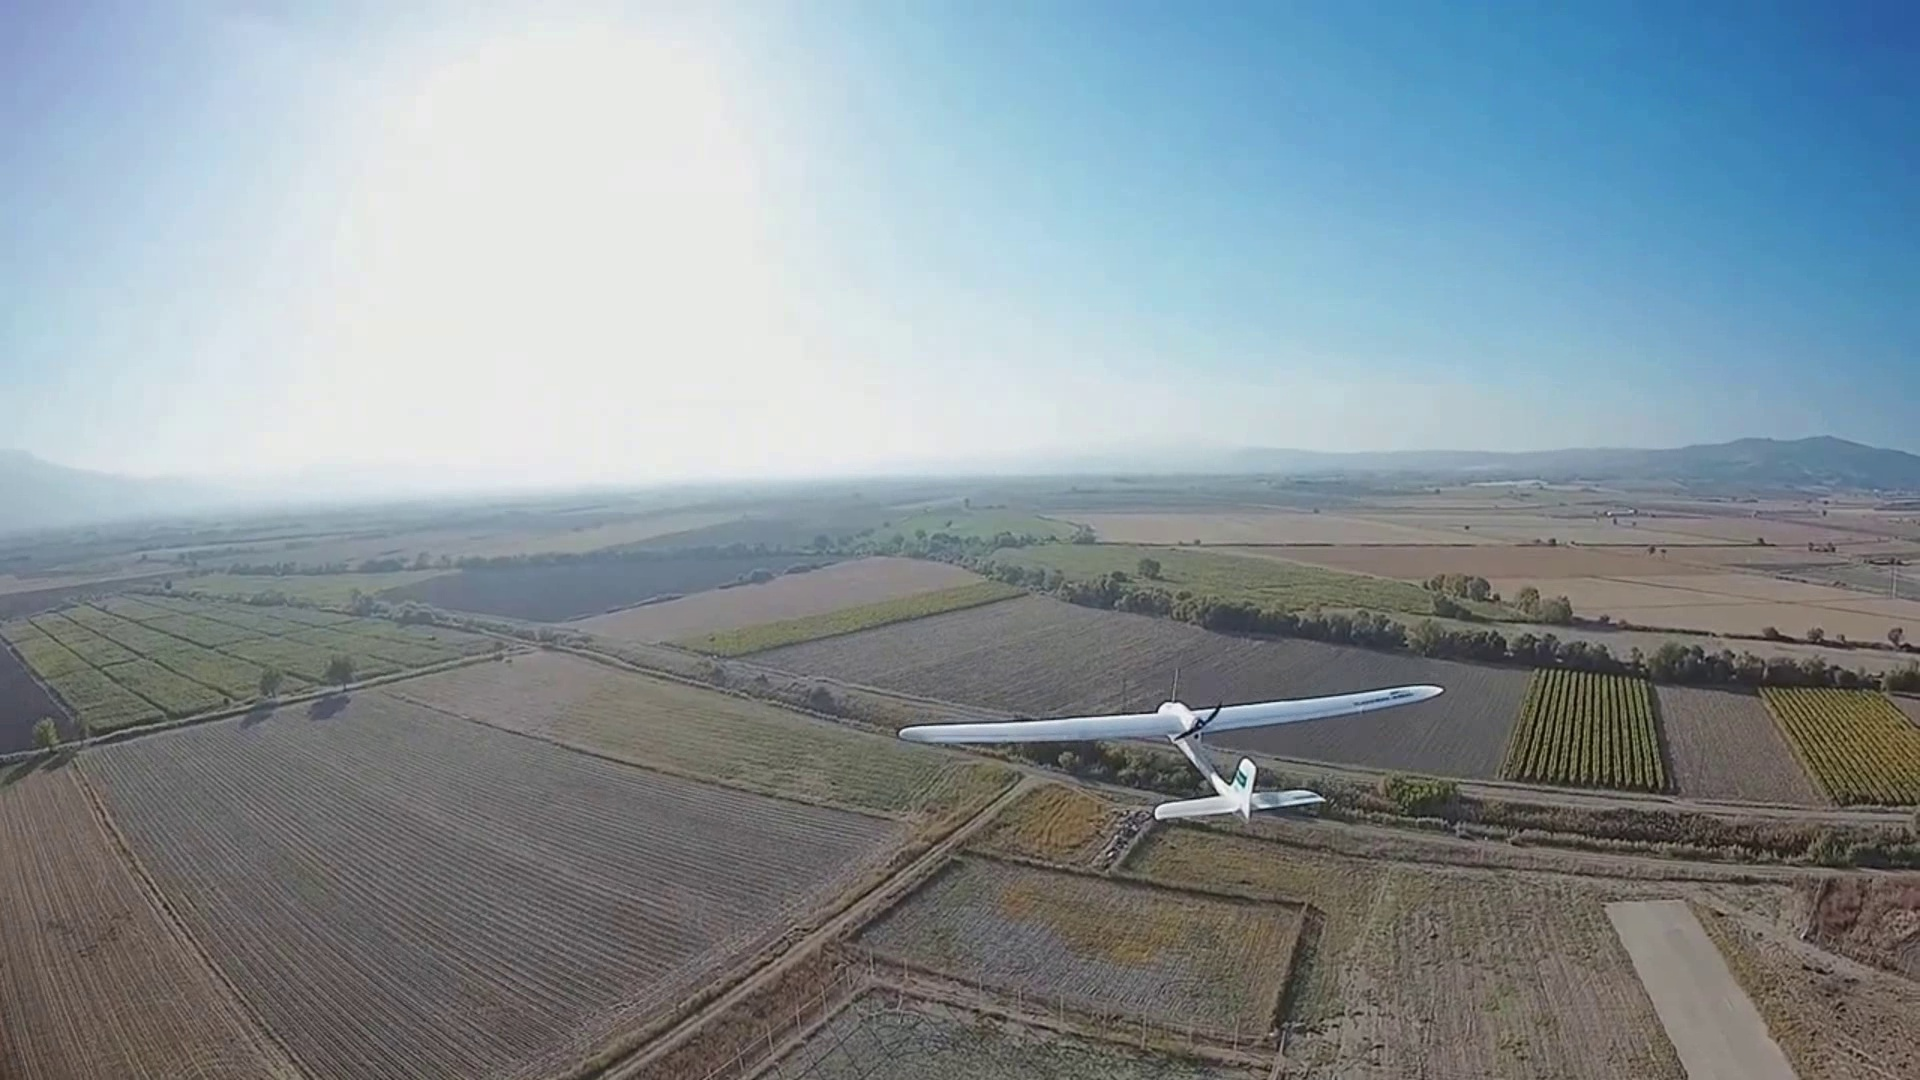airplane: (894, 682, 1443, 816)
